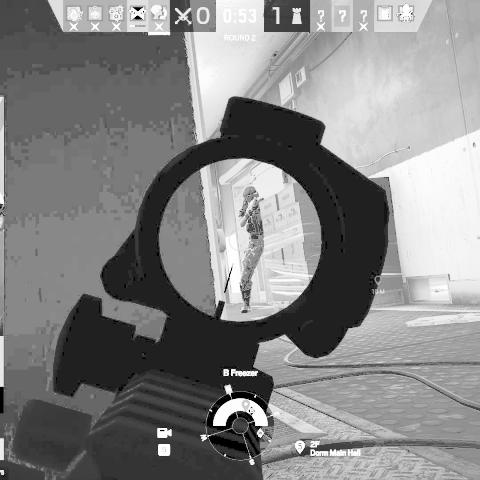Character: (237, 184, 266, 314)
Head: (242, 185, 261, 204)
